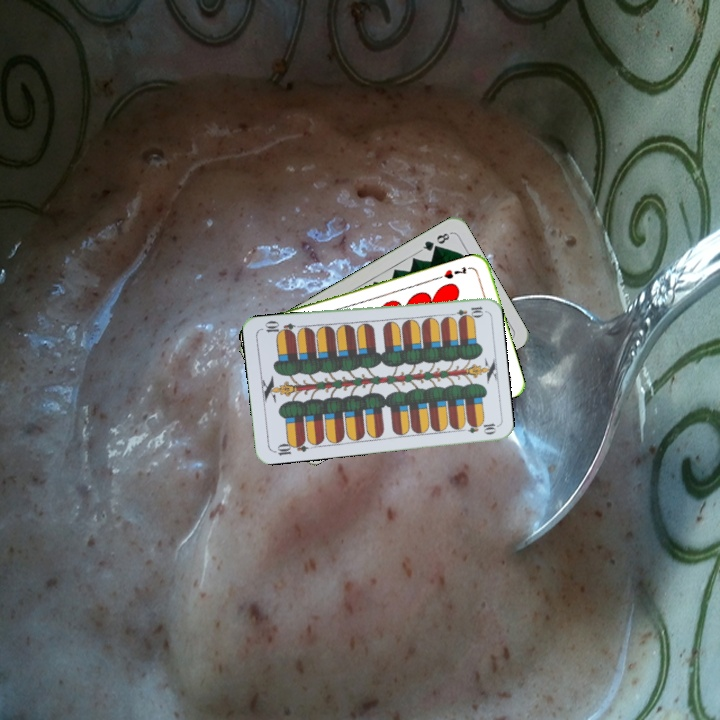E10: (270, 436, 310, 458), (445, 302, 486, 320)
G8: (416, 229, 454, 254)
H7: (440, 262, 469, 282)
